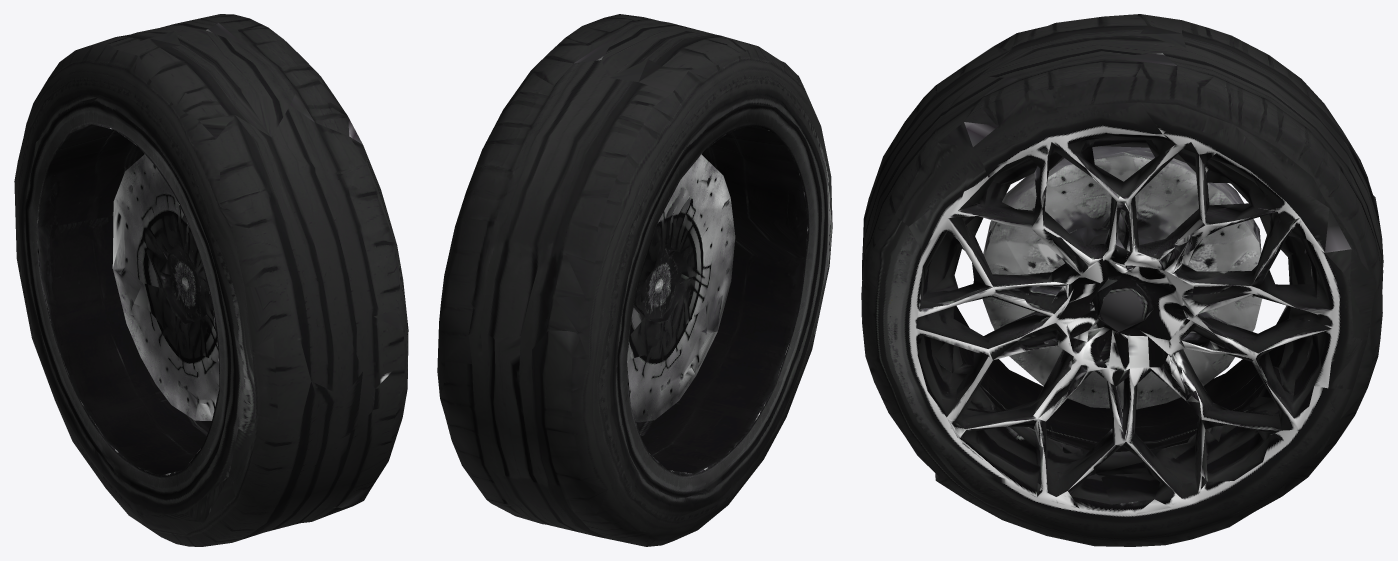
The model's file is supercar_wheel_modern.obj.
3 views of the same model, side by side, from view 1: azimuth 30°, elevation 25°; view 2: azimuth 150°, elevation 25°; view 3: azimuth 270°, elevation 25° (orthographic).
Visible parts, largest first — view 1: wheel; view 2: wheel; view 3: wheel.
Boxes of the visible parts, x1,y1,x2,y2 form: wheel: (14,14,408,546); wheel: (437,14,832,546); wheel: (861,14,1383,546).
Bounding box in the file's own units: 0.2745 × 0.6976 × 0.6974.
